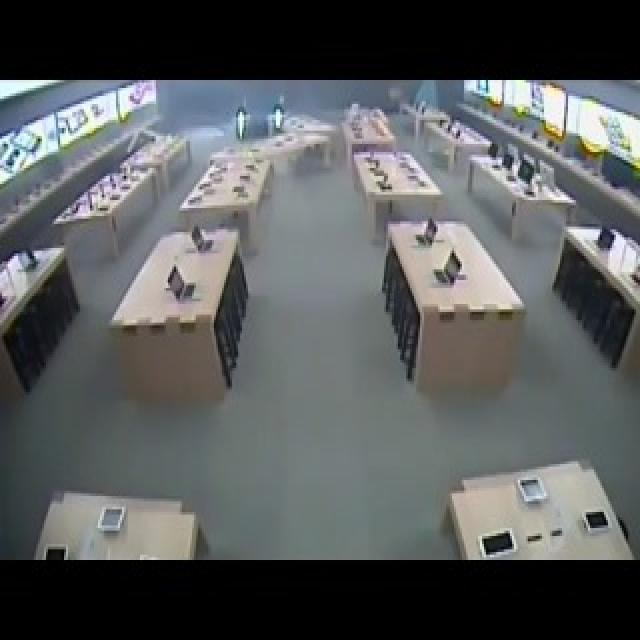burglary: (220, 80, 300, 156)
